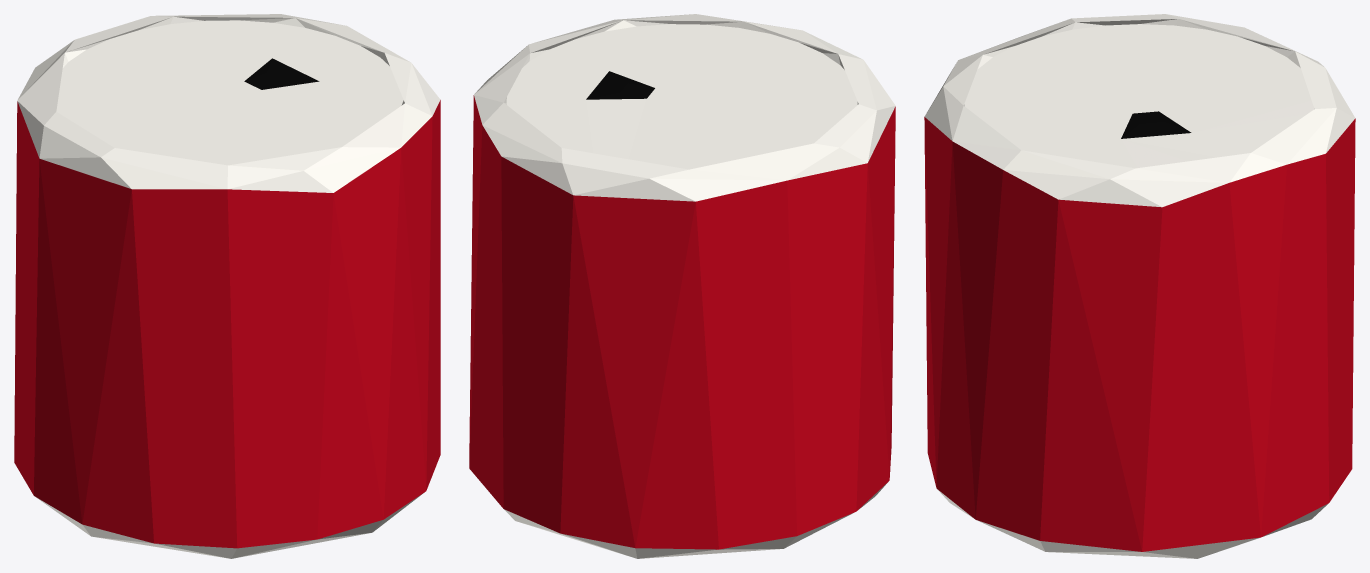
Rendered from can.fbx.
3 views of the same model, side by side, from view 1: azimuth 30°, elevation 25°; view 2: azimuth 150°, elevation 25°; view 3: azimuth 270°, elevation 25° (orthographic).
Parts seen in each view (by area): view 1: Cylinder; view 2: Cylinder; view 3: Cylinder.
Part boxes in pixels (x1,y1,x2,y2): Cylinder: (14,14,440,558); Cylinder: (469,14,895,558); Cylinder: (924,14,1355,558).
Bounding box in the file's own units: 201 × 200 × 201.
